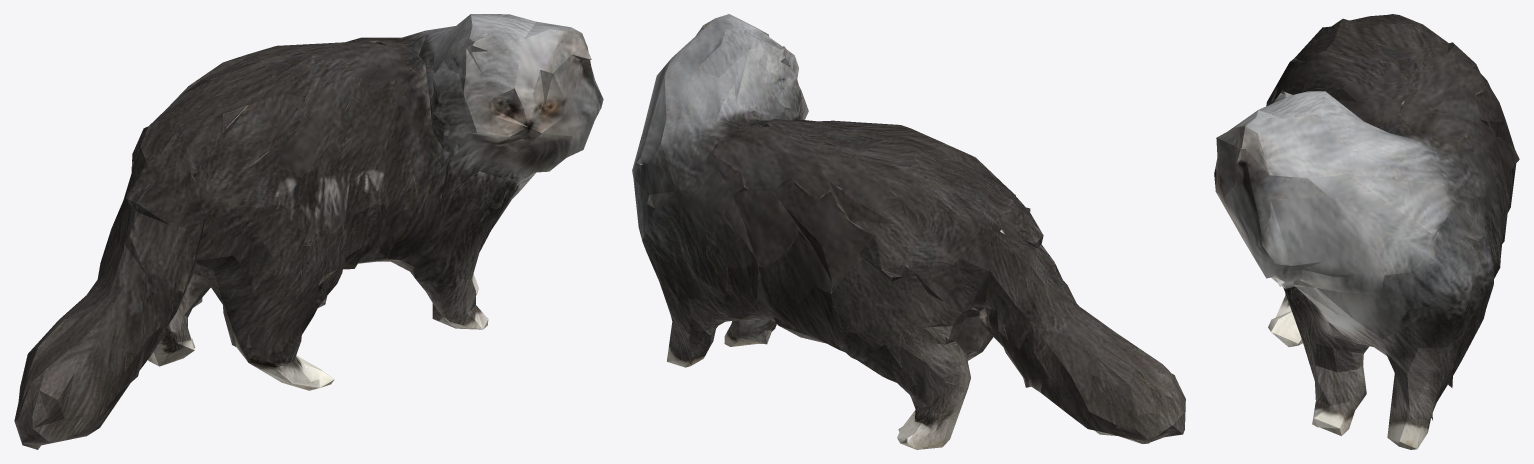
File: ATCHOUMCAT-lo.glb
3 views of the same model, side by side, from view 1: azimuth 30°, elevation 25°; view 2: azimuth 150°, elevation 25°; view 3: azimuth 270°, elevation 25° (orthographic). The views are drawn at different scales.
Visible parts, largest first — view 1: output_unwrapped; view 2: output_unwrapped; view 3: output_unwrapped.
Boxes of the visible parts, left/top/right/bottom form: output_unwrapped: left=14, top=14, right=603, bottom=449; output_unwrapped: left=632, top=14, right=1185, bottom=449; output_unwrapped: left=1214, top=14, right=1519, bottom=449.
Bounding box in the file's own units: 1.81 × 1 × 0.8044.
Materials: 1 (1 with a texture image).
